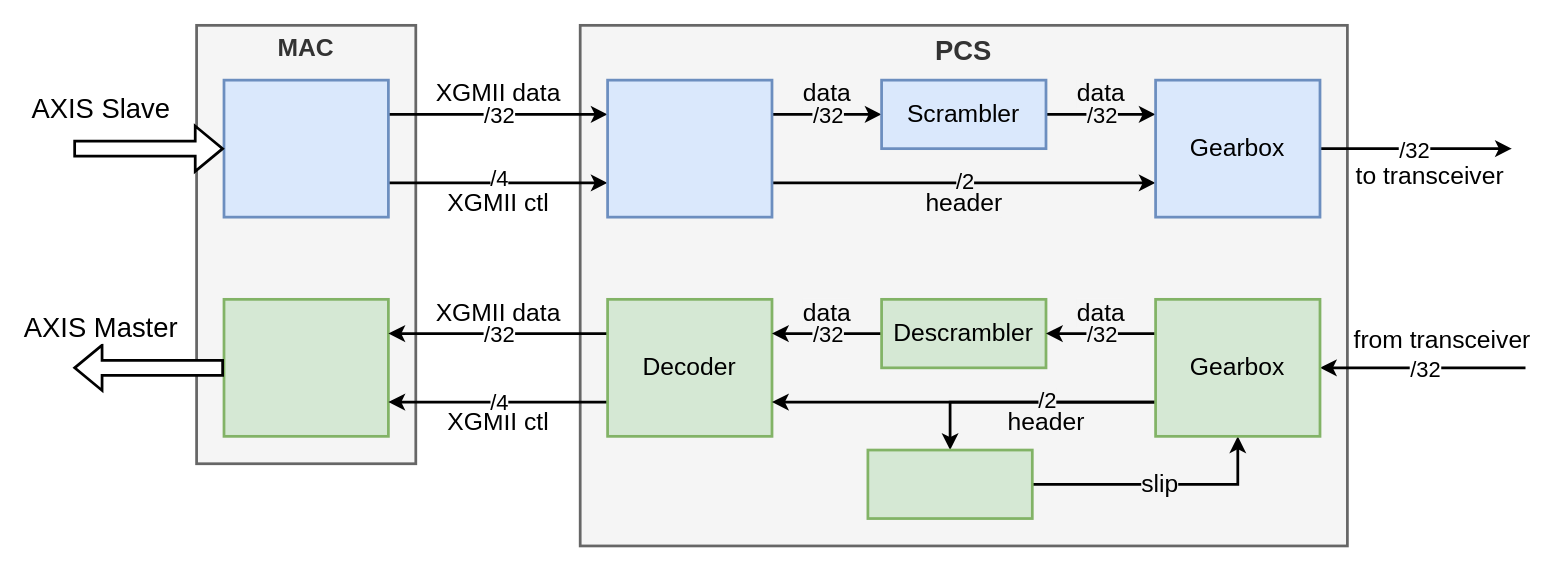
Image size: 1560x570. Some labels were removed from this diagram. Each missing label, with the centre of its shape:
"64b/66b encoder" goes at pixel 689 148.
"Lock State" goes at pixel 949 483.
"RX MAC" goes at pixel 305 367.
"TX MAC" goes at pixel 305 148.
